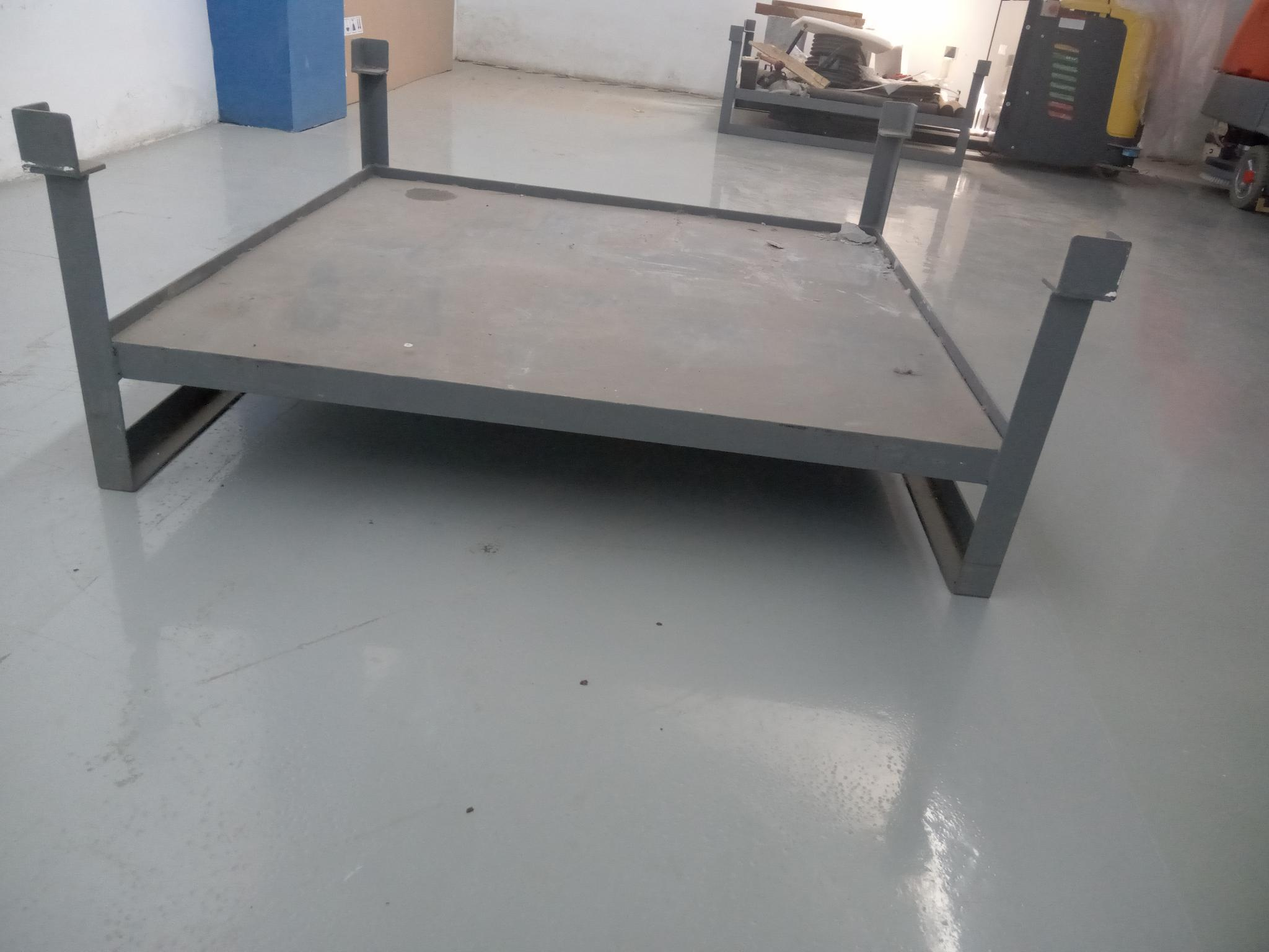pallet: (5, 24, 1132, 615)
